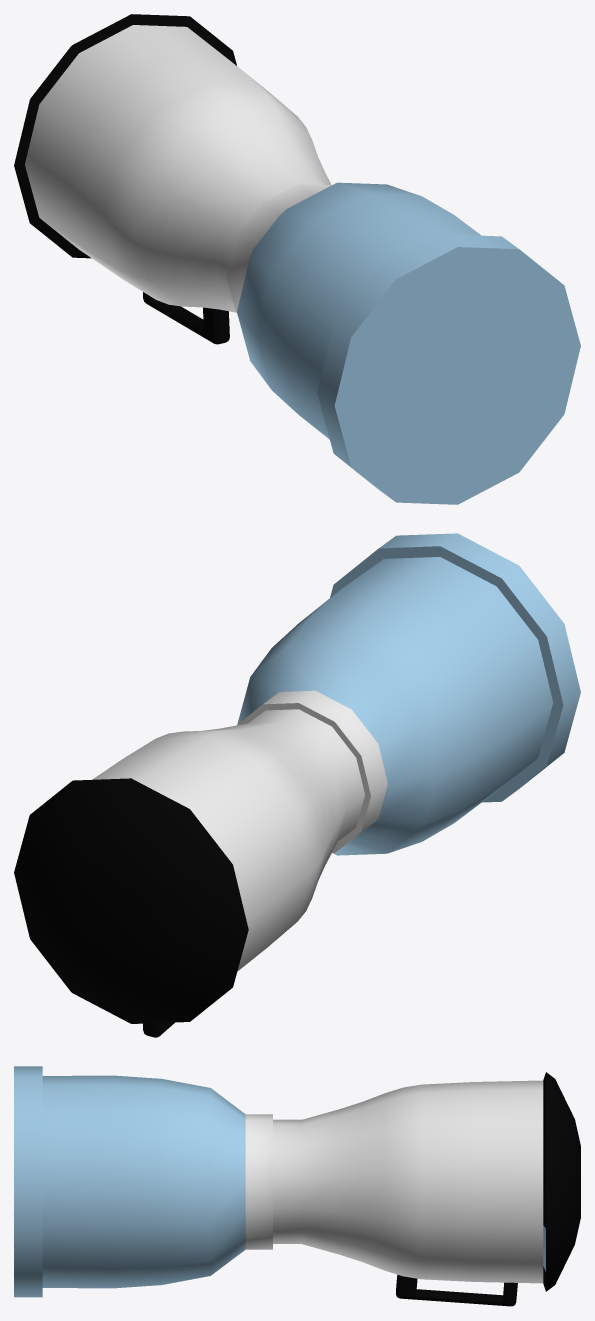
3 renders of one model, top to bottom at view 1: azimuth 30°, elevation 25°; view 2: azimuth 150°, elevation 25°; view 3: azimuth 270°, elevation 25°, orthographic. The views are drawn at different scales.
Visible parts, largest first — view 1: Circle; view 2: Circle; view 3: Circle.
Part boxes in pixels (<box>): Circle: <box>14,14,580,504</box>; Circle: <box>14,533,580,1037</box>; Circle: <box>14,1066,580,1306</box>.
Size of the model in its own units: 22.28 by 24.15 by 54.5.
